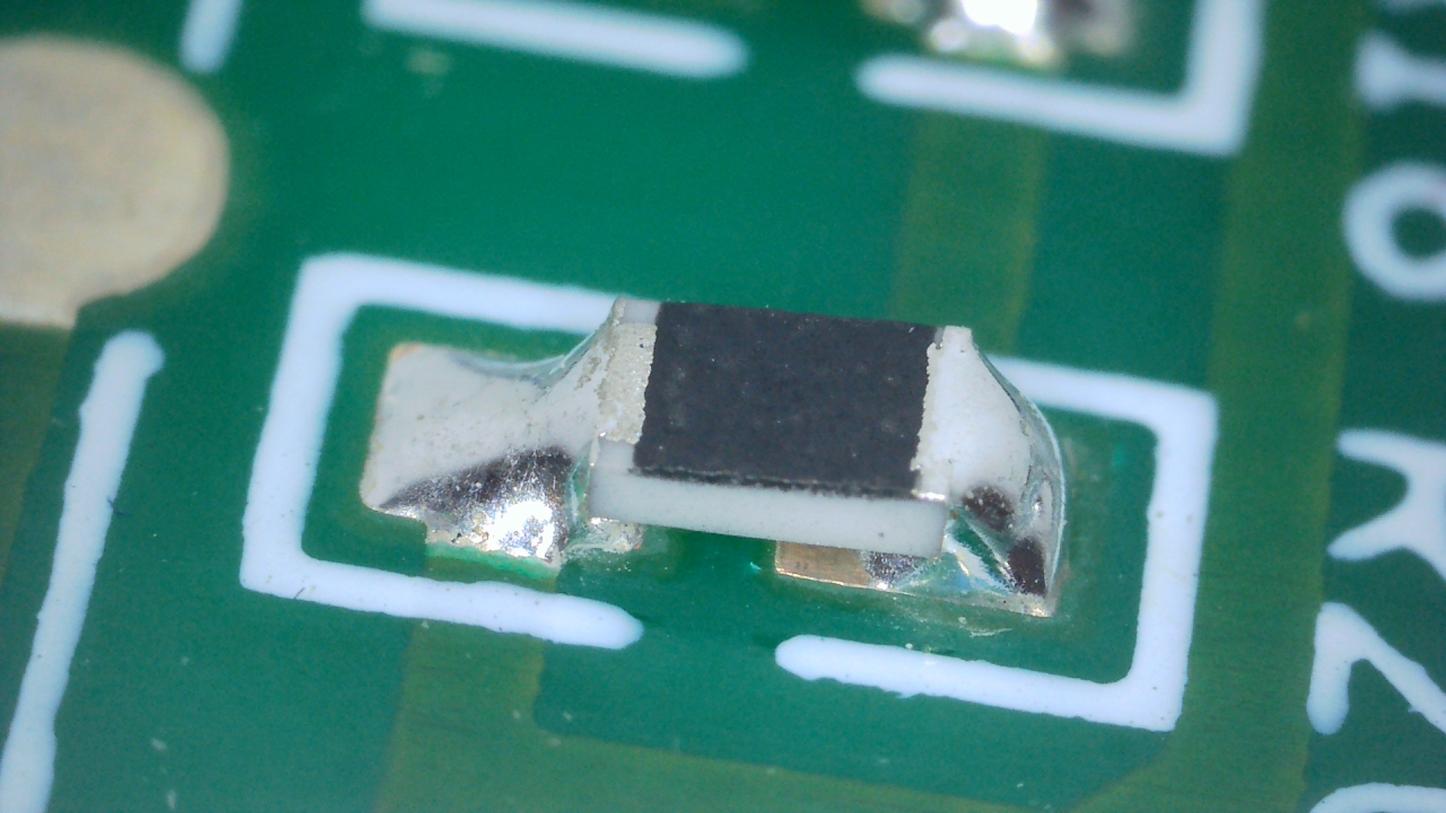NG: (864, 327, 1064, 605)
OK: (360, 296, 658, 565)
